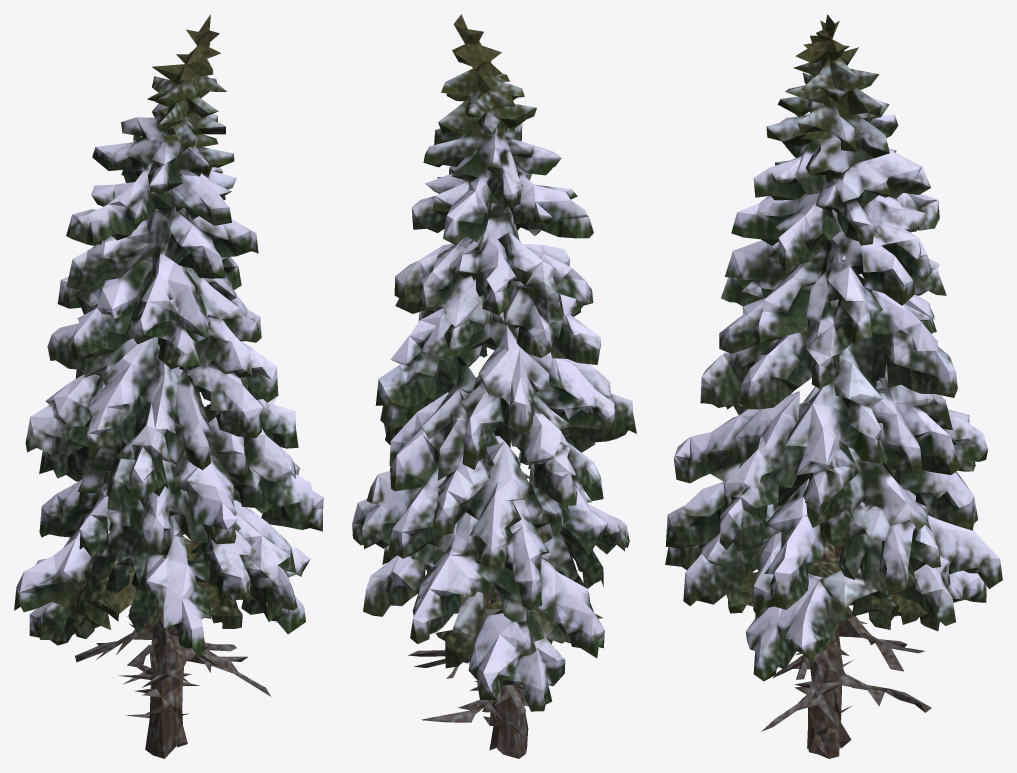
File: fir_snow.obj
3 renders of one model, left to right at view 1: azimuth 30°, elevation 25°; view 2: azimuth 150°, elevation 25°; view 3: azimuth 270°, elevation 25°, orthographic. The views are drawn at different scales.
Visible parts, largest first — view 1: fir_snow; view 2: fir_snow; view 3: fir_snow.
Boxes of the visible parts, x1,y1,x2,y2 form: fir_snow: (14,14,323,758); fir_snow: (352,14,636,758); fir_snow: (665,14,1002,758).
Bounding box in the file's own units: 8.16 × 22 × 8.82.
1 material, 1 textured.
